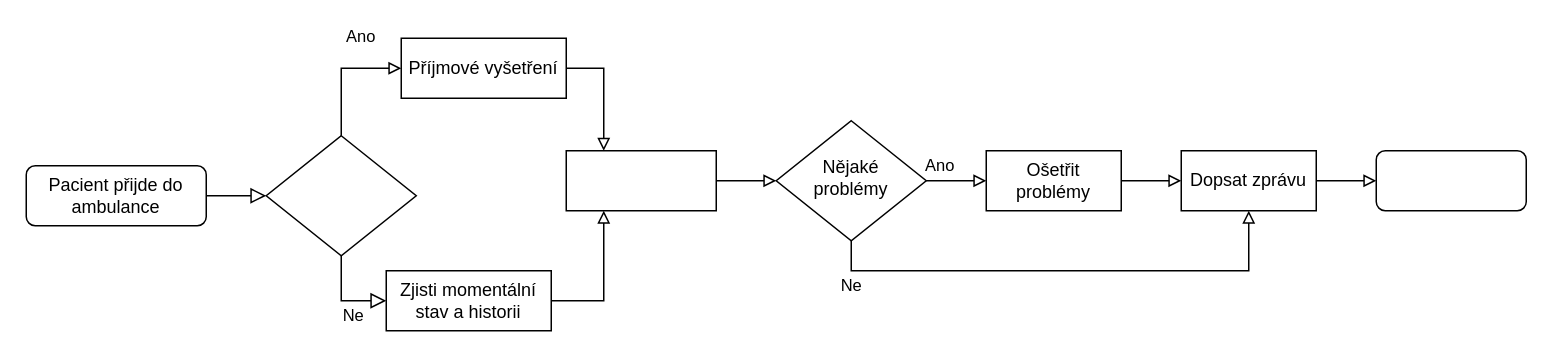
Some shapes in this 1553 by 357 pixel diagram are drawn without their labels. The centre of each missing label's shape, as x and y in pixels:
Kontrola a diagnóza: pixel 640 180
Nový pacient?: pixel 340 195
Pacient odchází: pixel 1450 180
